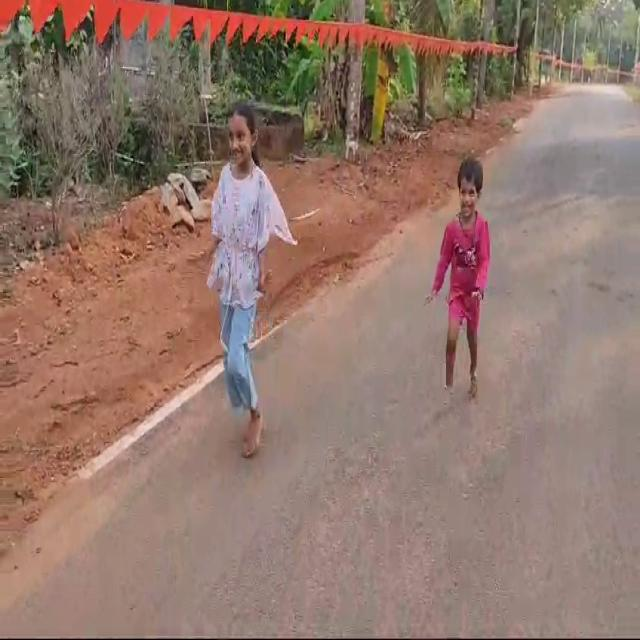child: (135, 52, 316, 532), (409, 94, 501, 493)
